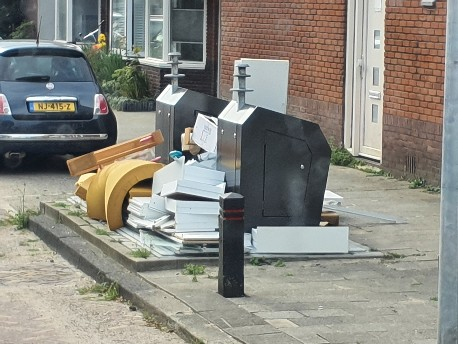Container: (230, 95, 330, 222), (160, 87, 224, 132)
Rest: (159, 156, 230, 241), (245, 230, 351, 267), (97, 158, 152, 229), (63, 147, 119, 201), (128, 127, 175, 177), (188, 108, 230, 150)
Voertuig: (0, 34, 114, 140)
